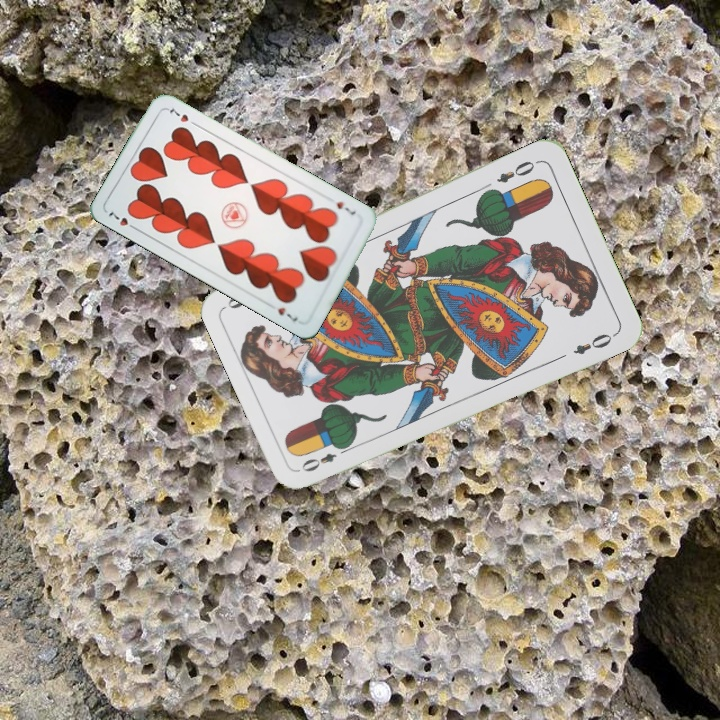EO: (297, 441, 353, 475), (492, 156, 542, 186)
H7: (104, 208, 141, 233), (332, 197, 358, 218)
